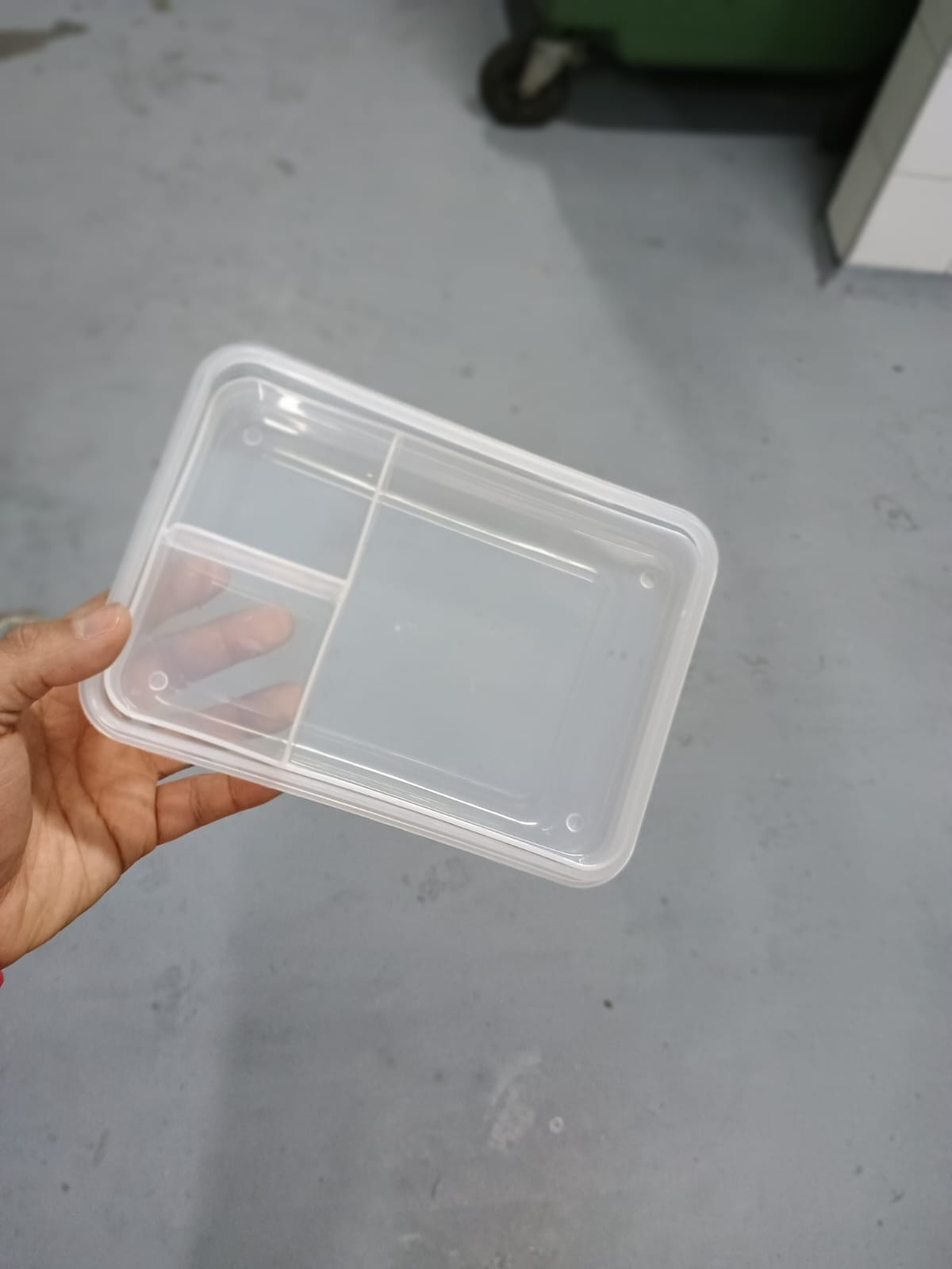Plastico: (83, 343, 717, 892)
